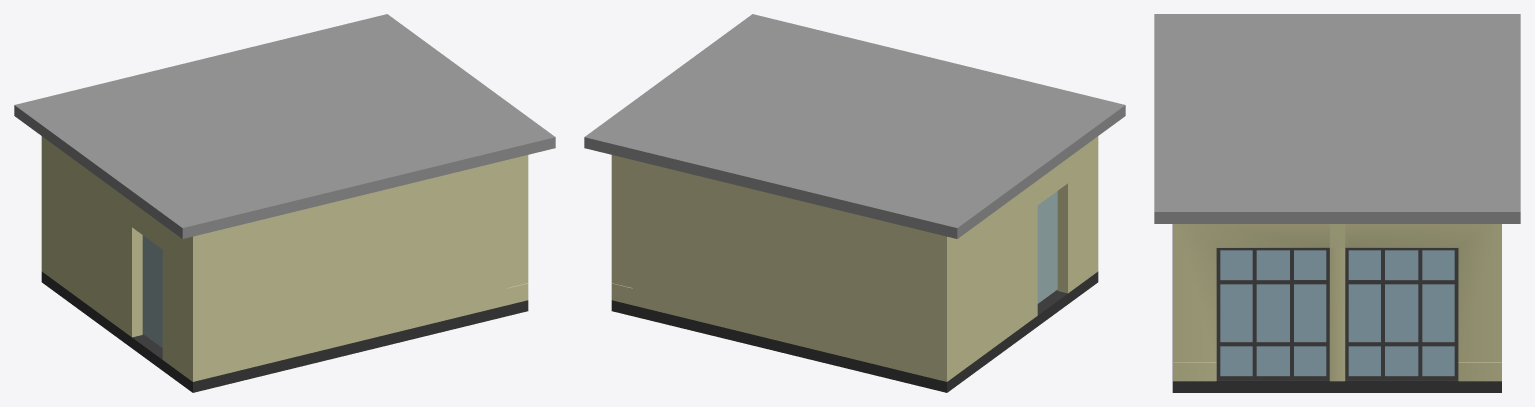
Rendered from Office.fbx.
The picture shows the model from 3 angles, left to right: view 1: azimuth 30°, elevation 25°; view 2: azimuth 150°, elevation 25°; view 3: azimuth 270°, elevation 25°; orthographic projection. The views are drawn at different scales.
Parts seen in each view (by area): view 1: Ceiling, WallStraight, WallEntrance, Floor, FrontWall, Door, WallCurved; view 2: Ceiling, WallCurved, WallEntrance, Floor, FrontWall, Door, WallStraight; view 3: Ceiling, Windows, FrontWall, Frames, Floor.
Boxes of the visible parts, x1,y1,x2,y2 form: Ceiling: [14, 14, 555, 238]; WallStraight: [187, 160, 507, 381]; WallEntrance: [47, 141, 186, 377]; Floor: [41, 271, 528, 392]; FrontWall: [507, 155, 528, 305]; Door: [142, 235, 162, 347]; WallCurved: [41, 136, 47, 275]; Ceiling: [584, 14, 1125, 238]; WallCurved: [632, 160, 952, 381]; WallEntrance: [953, 141, 1092, 377]; Floor: [611, 271, 1098, 392]; FrontWall: [611, 155, 632, 305]; Door: [1037, 191, 1057, 303]; WallStraight: [1092, 136, 1098, 275]; Ceiling: [1154, 14, 1520, 223]; Windows: [1220, 250, 1454, 375]; FrontWall: [1173, 224, 1501, 381]; Frames: [1216, 248, 1458, 380]; Floor: [1172, 224, 1501, 392].
Bounding box in the file's own units: 712 × 320 × 556.
